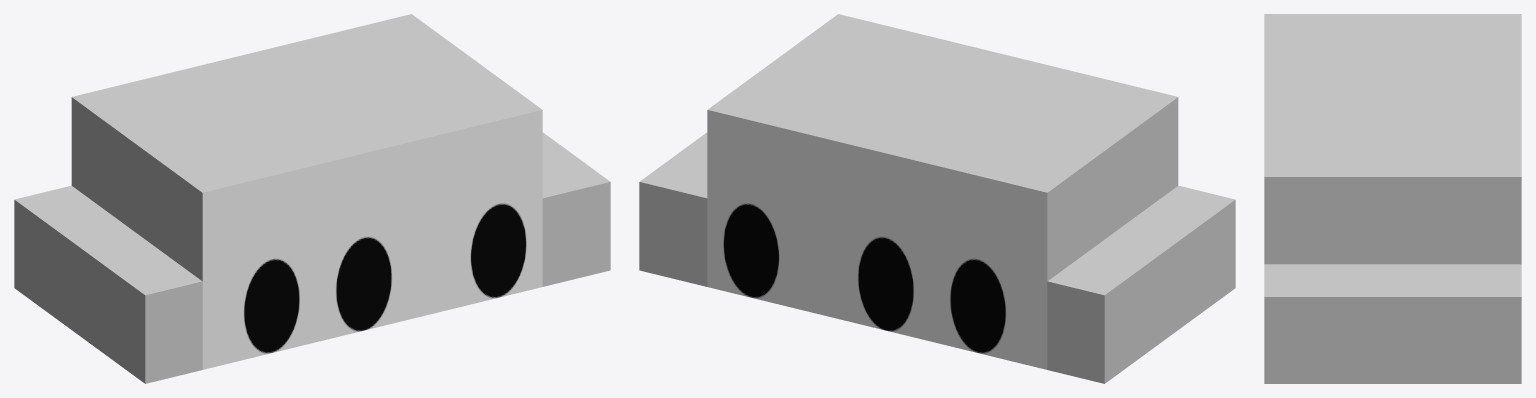
The model's file is Car.obj.
3 renders of one model, left to right at view 1: azimuth 30°, elevation 25°; view 2: azimuth 150°, elevation 25°; view 3: azimuth 270°, elevation 25°, orthographic.
Visible parts, largest first — view 1: Car_0, Car_1; view 2: Car_0, Car_1; view 3: Car_0.
Boxes of the visible parts, x1,y1,x2,y2 form: Car_0: (14, 14, 610, 383); Car_1: (202, 110, 542, 369); Car_0: (639, 14, 1235, 383); Car_1: (707, 110, 1047, 369); Car_0: (1264, 14, 1521, 383).
Bounding box in the file's own units: 2.05 × 0.7468 × 1.
2 materials, 1 textured.
